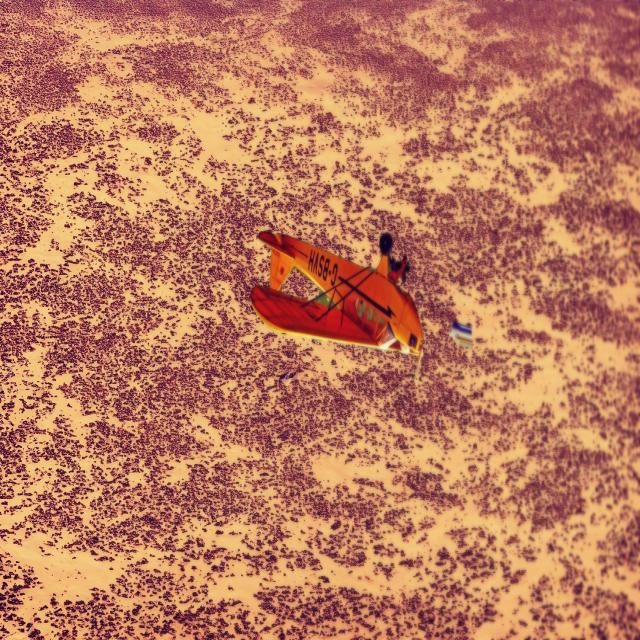airplane: (250, 228, 423, 357)
